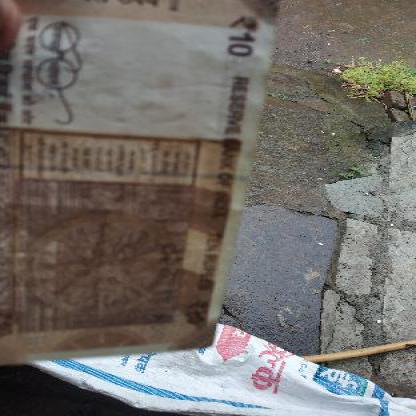New10Back: (0, 0, 251, 348)
